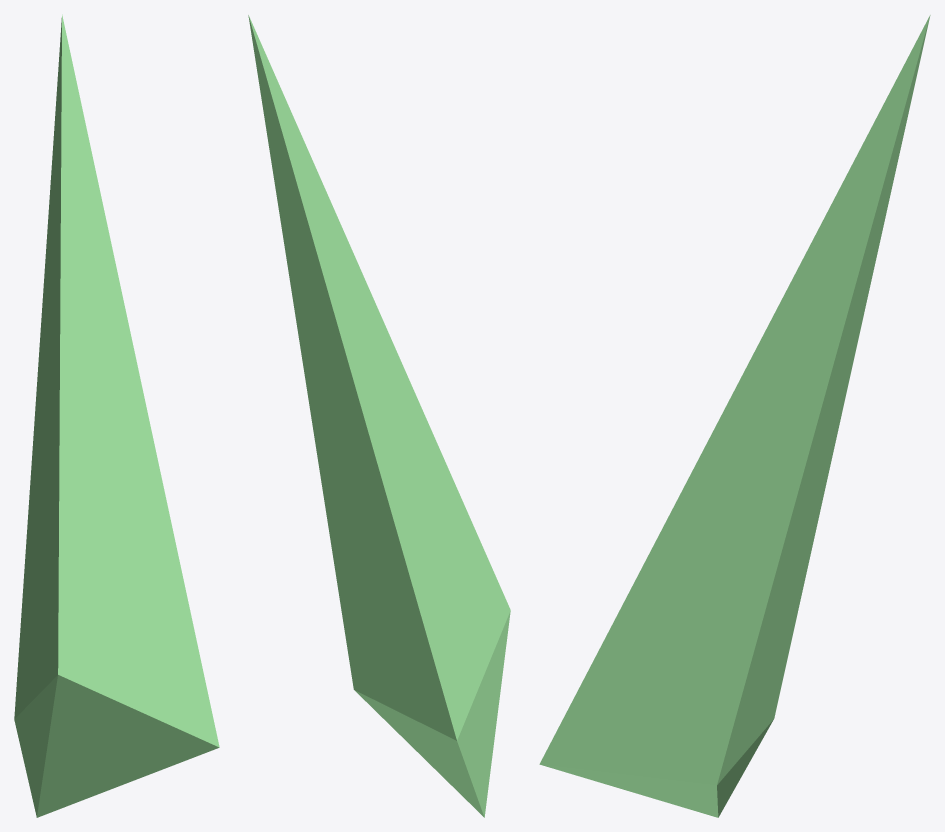
Rendered from linkhou_LR4_R560_link7_respondable_coll_16.dae.
The picture shows the model from 3 angles, left to right: view 1: azimuth 30°, elevation 25°; view 2: azimuth 150°, elevation 25°; view 3: azimuth 270°, elevation 25°; orthographic projection. The views are drawn at different scales.
Visible parts, largest first — view 1: Node_0000029808437380; view 2: Node_0000029808437380; view 3: Node_0000029808437380.
Boxes of the visible parts, x1,y1,x2,y2 form: Node_0000029808437380: [14, 14, 219, 817]; Node_0000029808437380: [248, 15, 510, 817]; Node_0000029808437380: [539, 15, 930, 817].
Bounding box in the file's own units: 0.00305 × 0.0184 × 0.00751.
